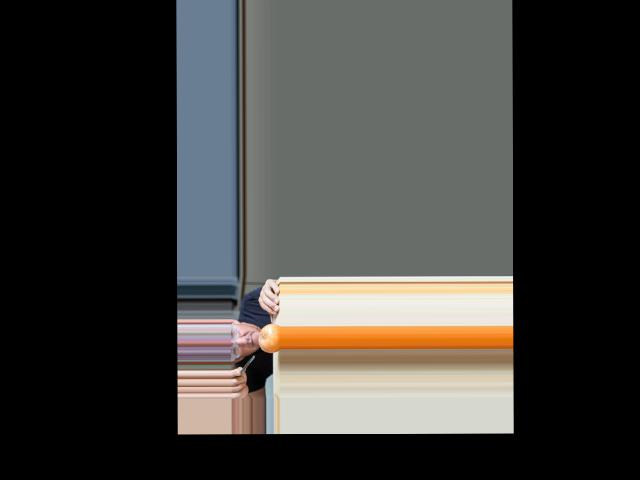onion: (258, 323, 280, 353)
